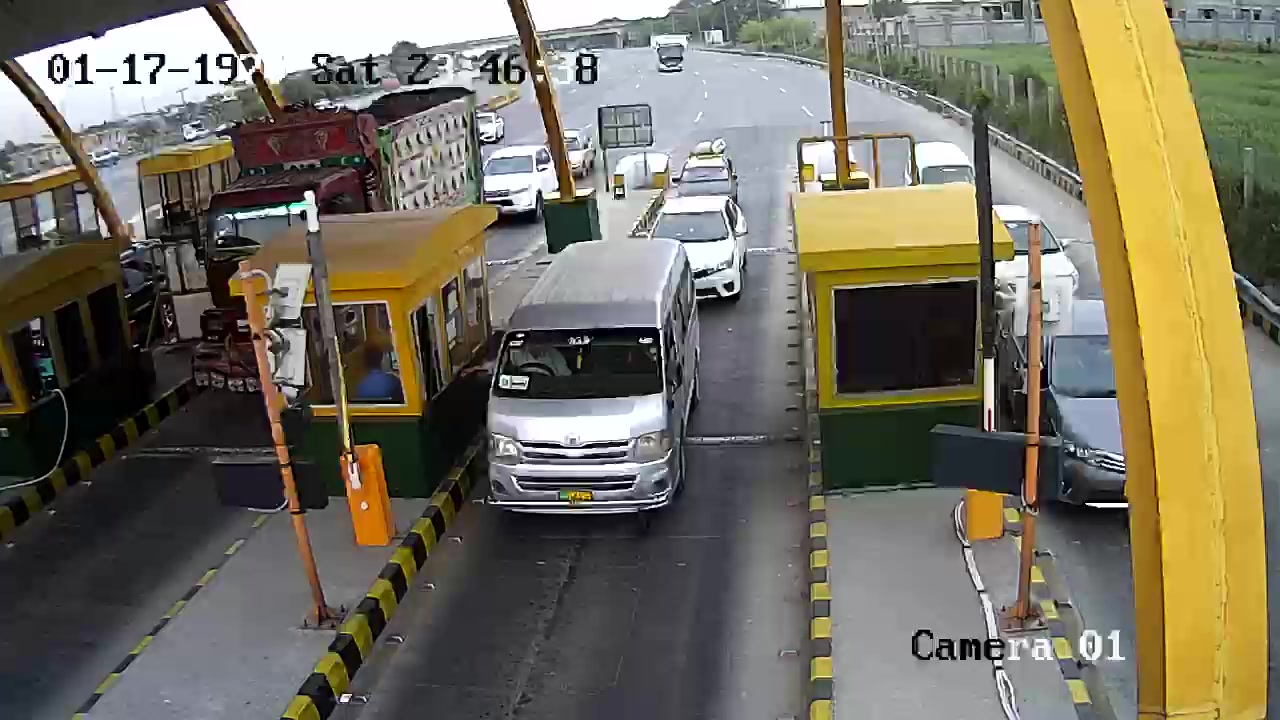F2: (486, 235, 702, 531)
